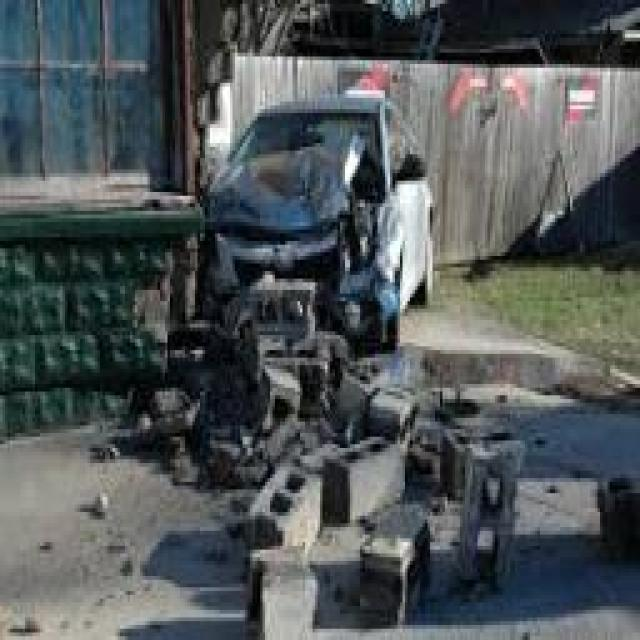Bonnet: (203, 145, 385, 232)
Bumper: (210, 217, 387, 342)
Light: (342, 198, 393, 273)
